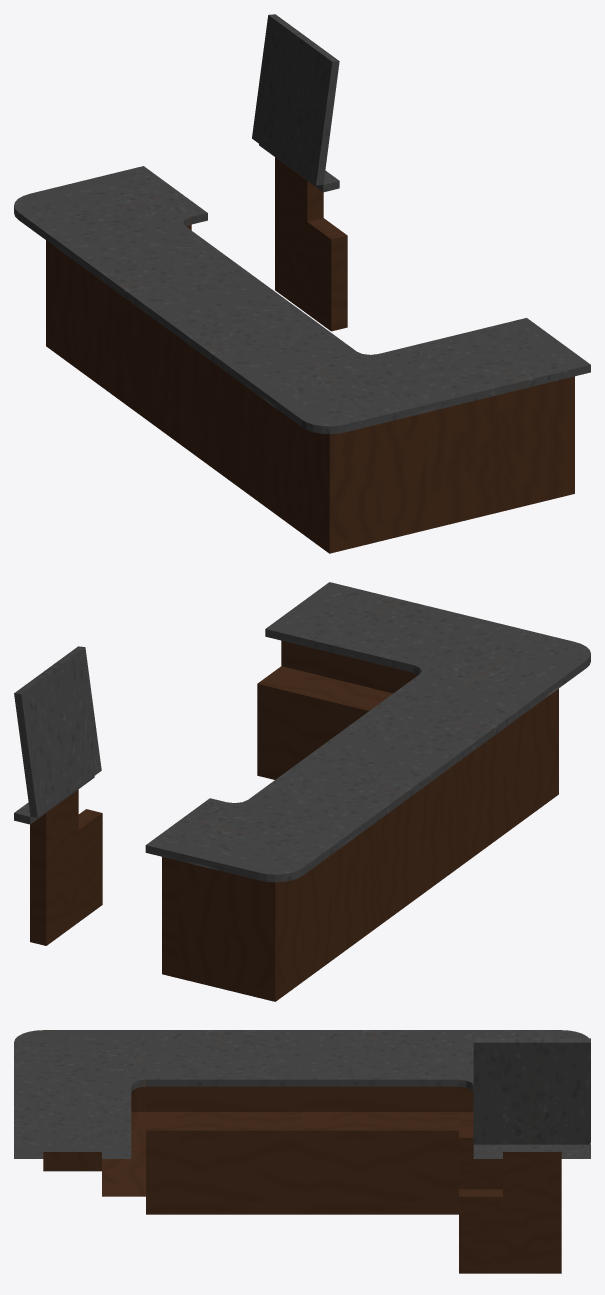
File: Mostrador.fbx
3 views of the same model, one above another, from view 1: azimuth 30°, elevation 25°; view 2: azimuth 150°, elevation 25°; view 3: azimuth 270°, elevation 25° (orthographic). The views are drawn at different scales.
Visible parts, largest first — view 1: Mostrador.002, MostradorEsquina.001, Mostrador, Mostrador.001, MostradorEsquina.002, MostradorAbierto, Cube.009; view 2: MostradorEsquina.002, Mostrador.002, Mostrador.001, Mostrador, MostradorEsquina.001, MostradorAbierto, Cube.009; view 3: Mostrador, Mostrador.001, MostradorAbierto, Cube.009, Mostrador.002, MostradorEsquina.001, MostradorEsquina.002.
Boxes of the visible parts, x1,y1,x2,y2 form: Mostrador.002: [379, 318, 590, 529]; MostradorEsquina.001: [245, 351, 442, 553]; Mostrador: [160, 289, 356, 512]; Mostrador.001: [74, 226, 270, 449]; MostradorEsquina.002: [14, 170, 191, 386]; MostradorAbierto: [128, 144, 347, 331]; Cube.009: [252, 14, 339, 185]; MostradorEsquina.002: [162, 799, 359, 1001]; Mostrador.002: [257, 582, 477, 779]; Mostrador.001: [248, 737, 444, 960]; Mostrador: [334, 674, 530, 897]; MostradorEsquina.001: [413, 618, 590, 835]; MostradorAbierto: [14, 776, 225, 977]; Cube.009: [14, 646, 101, 817]; Mostrador: [146, 1030, 302, 1214]; Mostrador.001: [302, 1030, 458, 1214]; MostradorAbierto: [459, 1130, 590, 1273]; Cube.009: [473, 1038, 590, 1144]; Mostrador.002: [14, 1086, 145, 1196]; MostradorEsquina.001: [14, 1030, 145, 1171]; MostradorEsquina.002: [459, 1030, 588, 1130].
Size of the model in its own units: 369 by 337 by 738.
